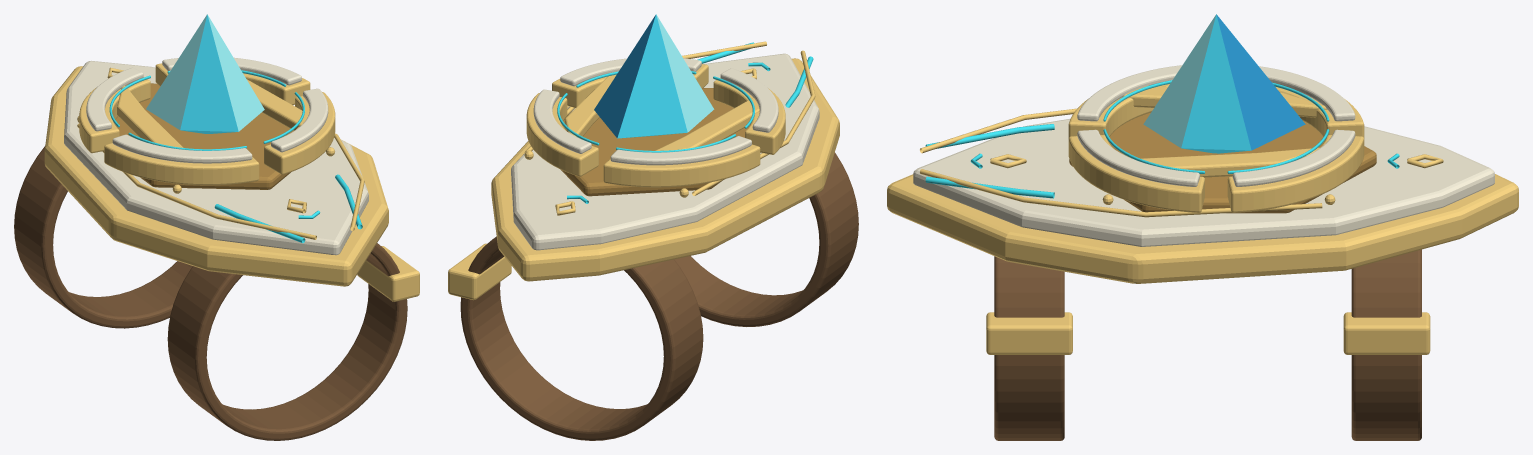
The model's file is RelicCore.fbx.
3 renders of one model, left to right at view 1: azimuth 30°, elevation 25°; view 2: azimuth 150°, elevation 25°; view 3: azimuth 270°, elevation 25°, orthographic. The views are drawn at different scales.
Visible parts, largest first — view 1: 02_IvoryShell, 04_LeatherBand_-0.069, 01_GildedShield, 04_LeatherBand_0.063, Crystal, 03_CoreRecess, PetalGold_2, PetalGold_3, PetalIvory_2, 05_GoldBuckle_-0.069, PetalGold_1, CrystalClaw_-1 (+8 smaller); view 2: 04_LeatherBand_0.063, 02_IvoryShell, 01_GildedShield, 04_LeatherBand_-0.069, Crystal, 03_CoreRecess, PetalGold_1, PetalGold_0, PetalIvory_1, 05_GoldBuckle_0.063, CrystalClaw_-1, PetalGold_2 (+7 smaller); view 3: 02_IvoryShell, 01_GildedShield, Crystal, 04_LeatherBand_0.063, 04_LeatherBand_-0.069, 03_CoreRecess, PetalGold_0, PetalGold_3, 05_GoldBuckle_0.063, 05_GoldBuckle_-0.069, CrystalClaw_1, PetalIvory_0 (+10 smaller).
Part boxes in pixels (x1=…): 02_IvoryShell: x1=64, y1=60, x2=368, y2=255; 04_LeatherBand_-0.069: x1=167, y1=243, x2=407, y2=440; 01_GildedShield: x1=44, y1=66, x2=388, y2=286; 04_LeatherBand_0.063: x1=14, y1=146, x2=192, y2=328; Crystal: x1=146, y1=14, x2=264, y2=133; 03_CoreRecess: x1=114, y1=83, x2=293, y2=189; PetalGold_2: x1=104, y1=143, x2=259, y2=185; PetalGold_3: x1=264, y1=92, x2=335, y2=174; PetalIvory_2: x1=112, y1=134, x2=252, y2=163; 05_GoldBuckle_-0.069: x1=357, y1=246, x2=419, y2=301; PetalGold_1: x1=79, y1=77, x2=150, y2=153; CrystalClaw_-1: x1=117, y1=85, x2=183, y2=147; 04_LeatherBand_0.063: x1=460, y1=236, x2=703, y2=440; 02_IvoryShell: x1=511, y1=53, x2=819, y2=250; 01_GildedShield: x1=491, y1=58, x2=839, y2=281; 04_LeatherBand_-0.069: x1=674, y1=152, x2=858, y2=326; Crystal: x1=594, y1=14, x2=714, y2=138; 03_CoreRecess: x1=560, y1=88, x2=750, y2=196; PetalGold_1: x1=603, y1=144, x2=760, y2=187; PetalGold_0: x1=526, y1=93, x2=598, y2=176; PetalIvory_1: x1=610, y1=136, x2=751, y2=165; 05_GoldBuckle_0.063: x1=448, y1=243, x2=511, y2=300; CrystalClaw_-1: x1=655, y1=97, x2=759, y2=150; PetalGold_2: x1=713, y1=78, x2=785, y2=154; 02_IvoryShell: x1=913, y1=118, x2=1494, y2=246; 01_GildedShield: x1=887, y1=174, x2=1518, y2=283; Crystal: x1=1143, y1=14, x2=1305, y2=153; 04_LeatherBand_0.063: x1=1351, y1=249, x2=1421, y2=440; 04_LeatherBand_-0.069: x1=994, y1=256, x2=1064, y2=440; 03_CoreRecess: x1=1069, y1=112, x2=1376, y2=213; PetalGold_0: x1=1227, y1=135, x2=1364, y2=212; PetalGold_3: x1=1068, y1=135, x2=1204, y2=212; 05_GoldBuckle_0.063: x1=1343, y1=312, x2=1430, y2=354; 05_GoldBuckle_-0.069: x1=986, y1=312, x2=1072, y2=354; CrystalClaw_1: x1=1141, y1=147, x2=1319, y2=177; PetalIvory_0: x1=1232, y1=129, x2=1355, y2=186.
Bounding box in the file's own units: 12.92 × 16.83 × 23.34.
